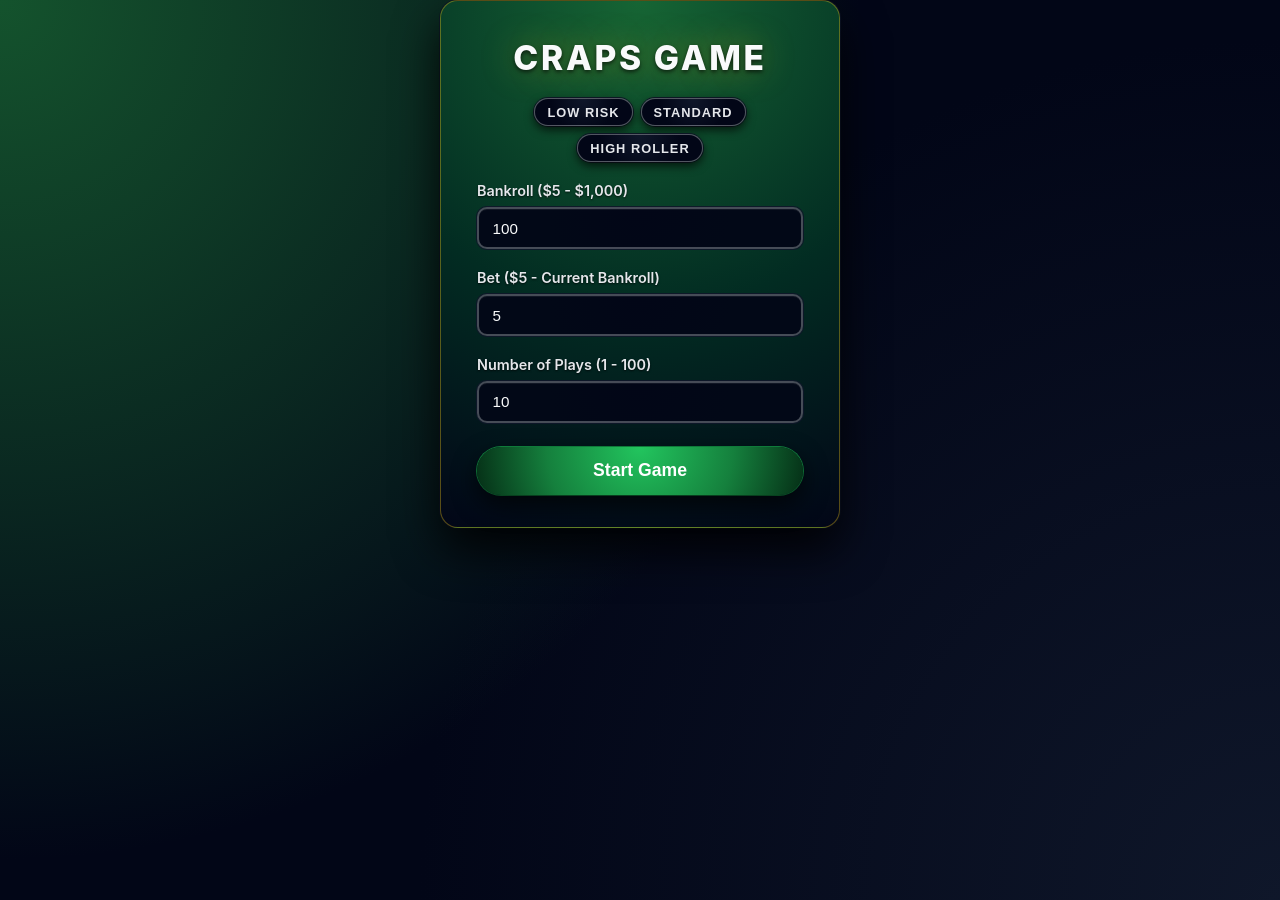
Test: GameControls Component › should show error for bankroll below minimum
Replace the text in the number field labelled "Bankroll ($5 - $1,000)" with "3" at x=640, y=228, box top-left (477, 207), bottom-right (803, 249)
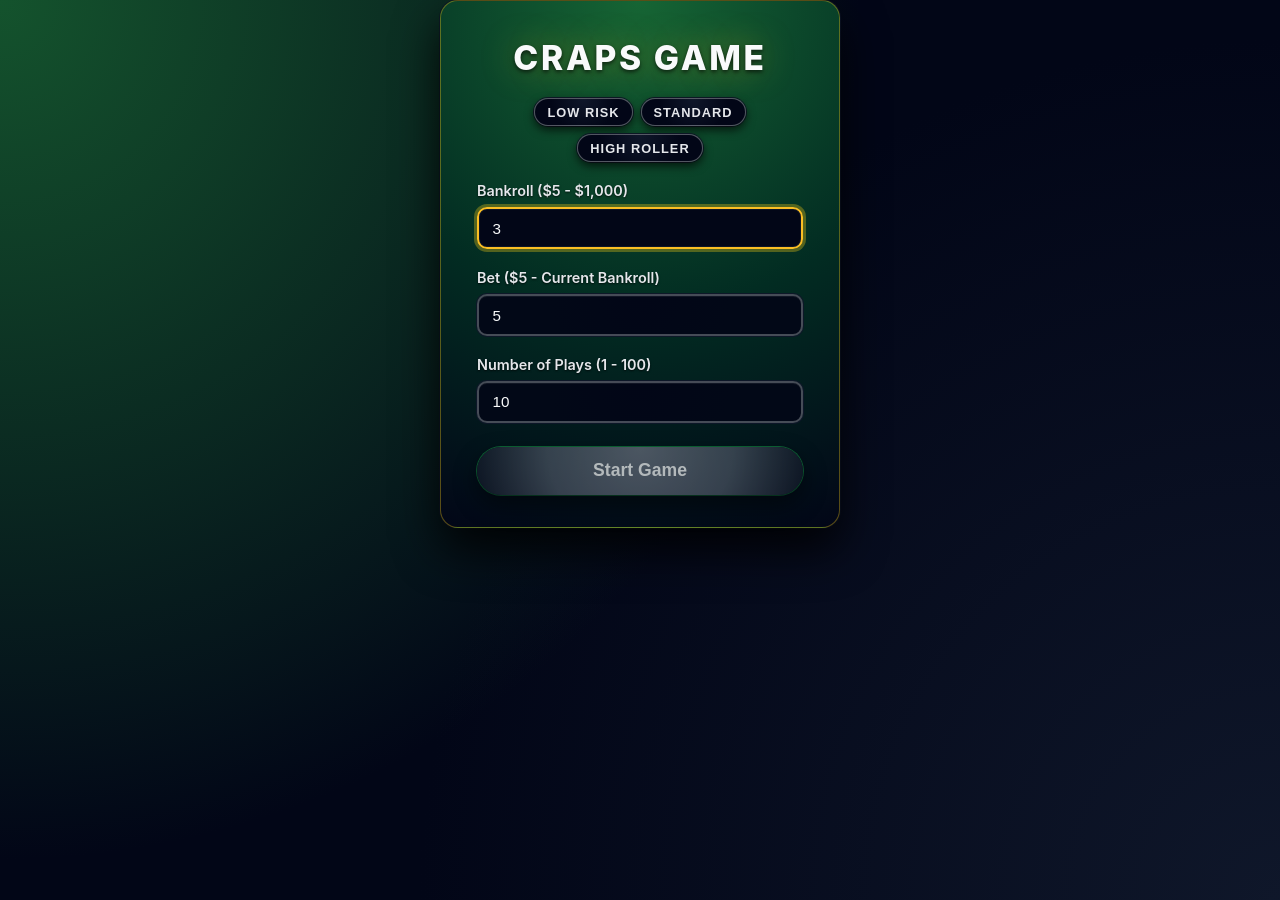
Press Tab
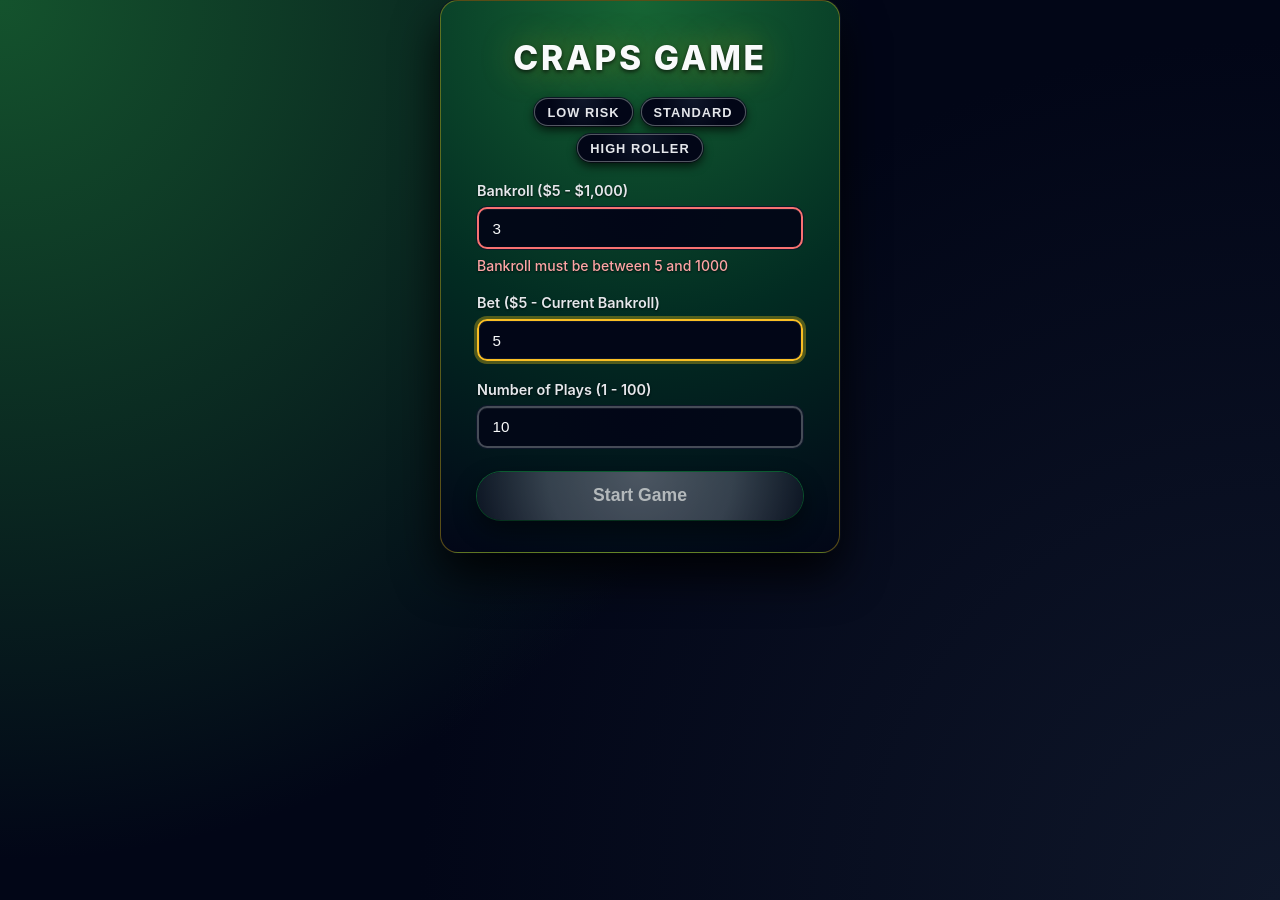
Expected: the text "Bankroll must be between 5 and 1000" is shown, top-left (477, 257), bottom-right (728, 274)
